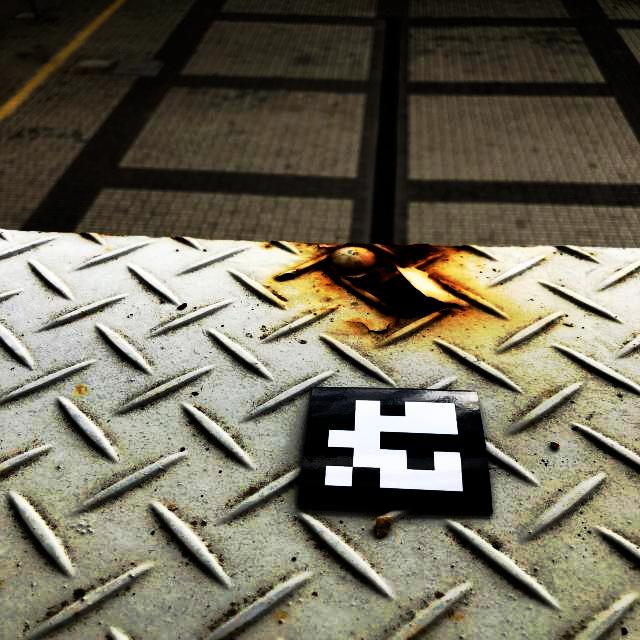Corrosion: (273, 242, 471, 325), (349, 320, 392, 335), (272, 293, 287, 300), (264, 244, 272, 249)
